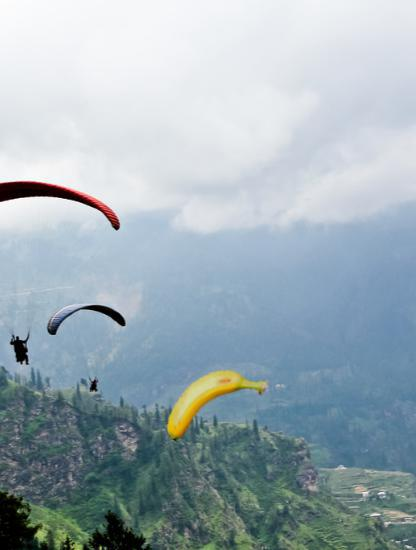Banana: (168, 360, 263, 455)
